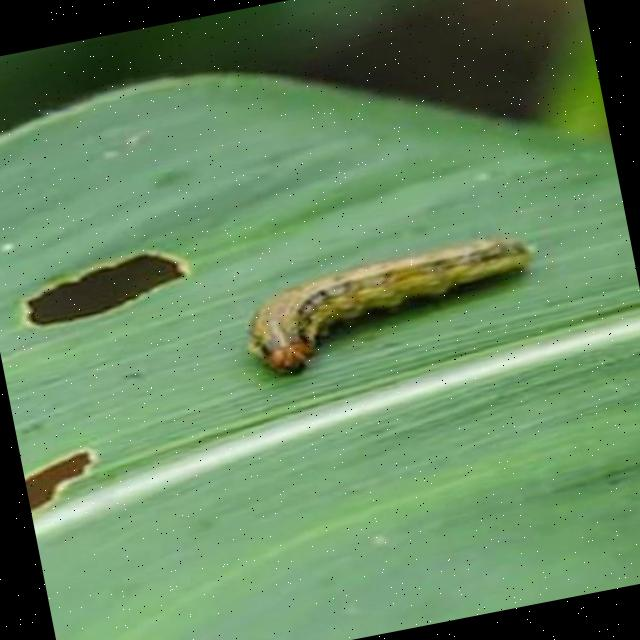worm: (236, 231, 548, 388)
